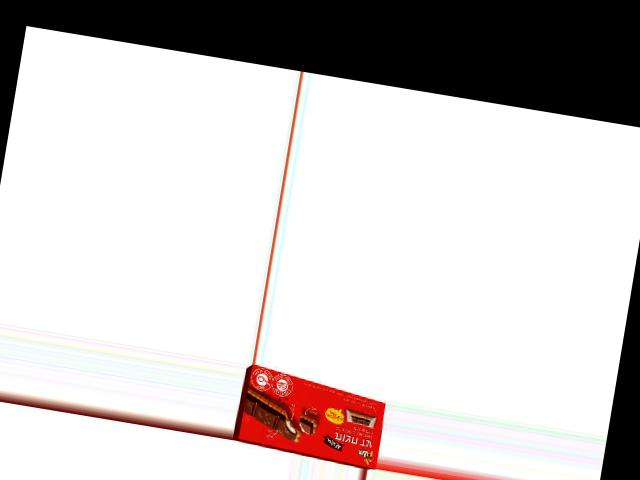chocolate: (233, 371, 389, 464)
